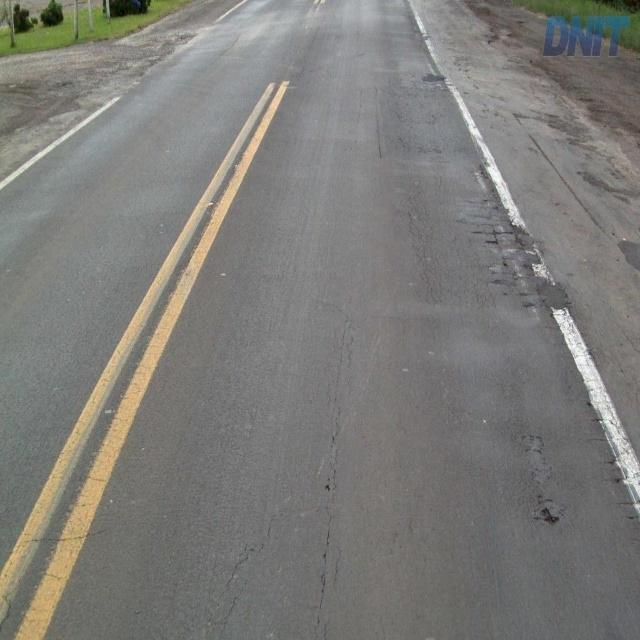pothole: (534, 498, 566, 537)
